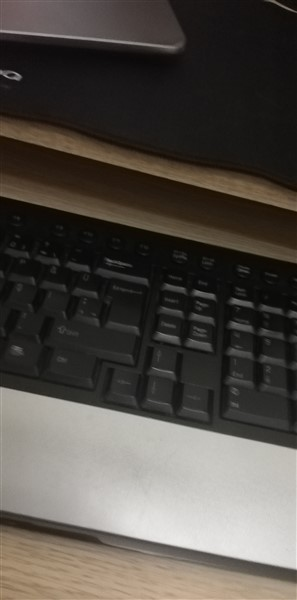klavye: (1, 191, 297, 581)
